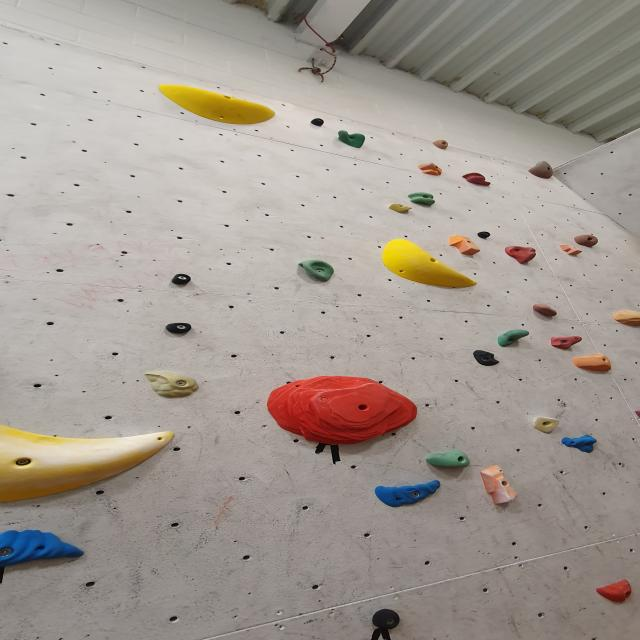Crimp: (266, 374, 424, 446), (0, 526, 88, 570), (374, 482, 444, 508), (142, 370, 202, 399), (561, 437, 599, 453), (534, 418, 562, 436), (418, 161, 447, 177), (461, 172, 491, 186)
Jug: (426, 450, 474, 470), (296, 261, 334, 284), (498, 328, 532, 347), (504, 245, 536, 264), (336, 131, 366, 149), (567, 234, 604, 248), (549, 336, 582, 350), (408, 193, 438, 208), (530, 161, 556, 178), (530, 305, 559, 319), (432, 139, 451, 150)
Pinch: (480, 465, 520, 505), (448, 236, 483, 256), (371, 611, 402, 633), (165, 322, 196, 335), (388, 203, 413, 214), (474, 229, 497, 240), (172, 274, 196, 284), (558, 246, 582, 256), (310, 117, 327, 127)
Sloper: (0, 431, 180, 503), (154, 83, 276, 124), (382, 242, 482, 290), (594, 580, 634, 606), (571, 353, 614, 373), (472, 350, 503, 367), (613, 310, 640, 329)
